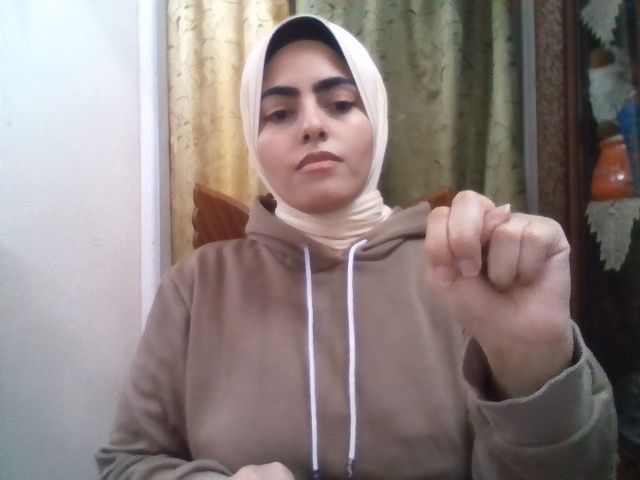N: (425, 190, 572, 348)
